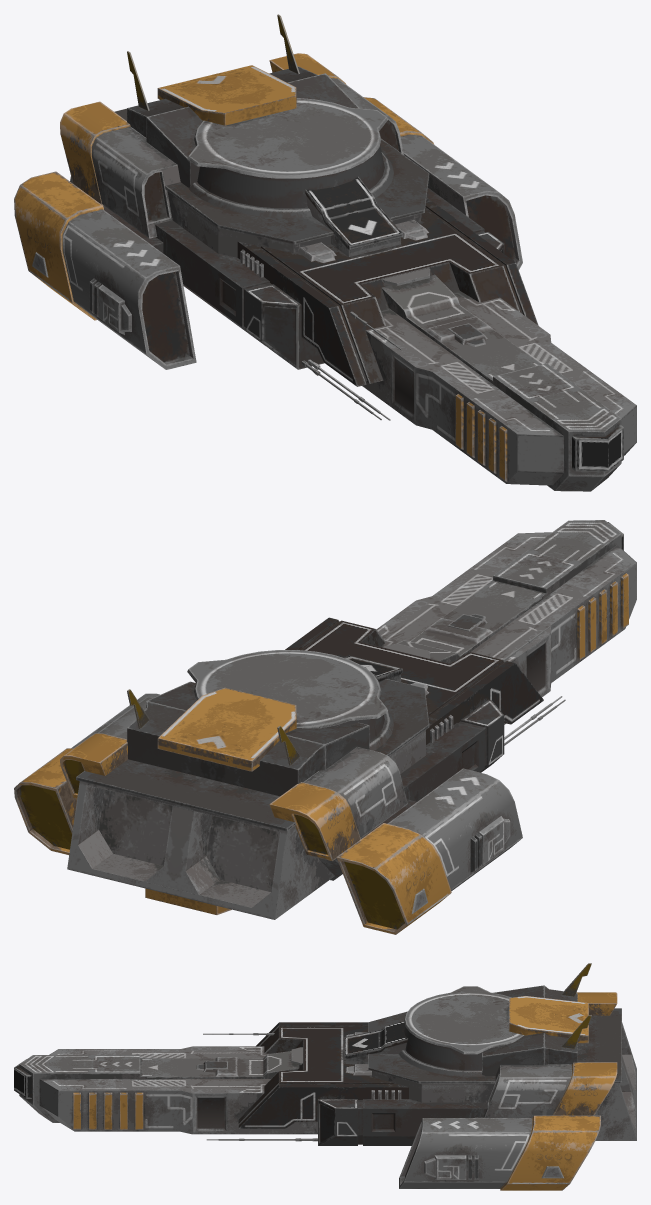
The model's file is insurgent.gltf.
The picture shows the model from 3 angles, top to bottom: view 1: azimuth 30°, elevation 25°; view 2: azimuth 150°, elevation 25°; view 3: azimuth 270°, elevation 25°; orthographic projection. The views are drawn at different scales.
Parts seen in each view (by area): view 1: Insurgent; view 2: Insurgent; view 3: Insurgent.
Boxes of the visible parts, box(x1,y1,x2,y2) form: Insurgent: box(14, 14, 636, 491); Insurgent: box(14, 520, 636, 934); Insurgent: box(14, 963, 636, 1190).
Bounding box in the file's own units: 5.57 × 2.87 × 10.95.
Materials: 1 (1 with a texture image).
